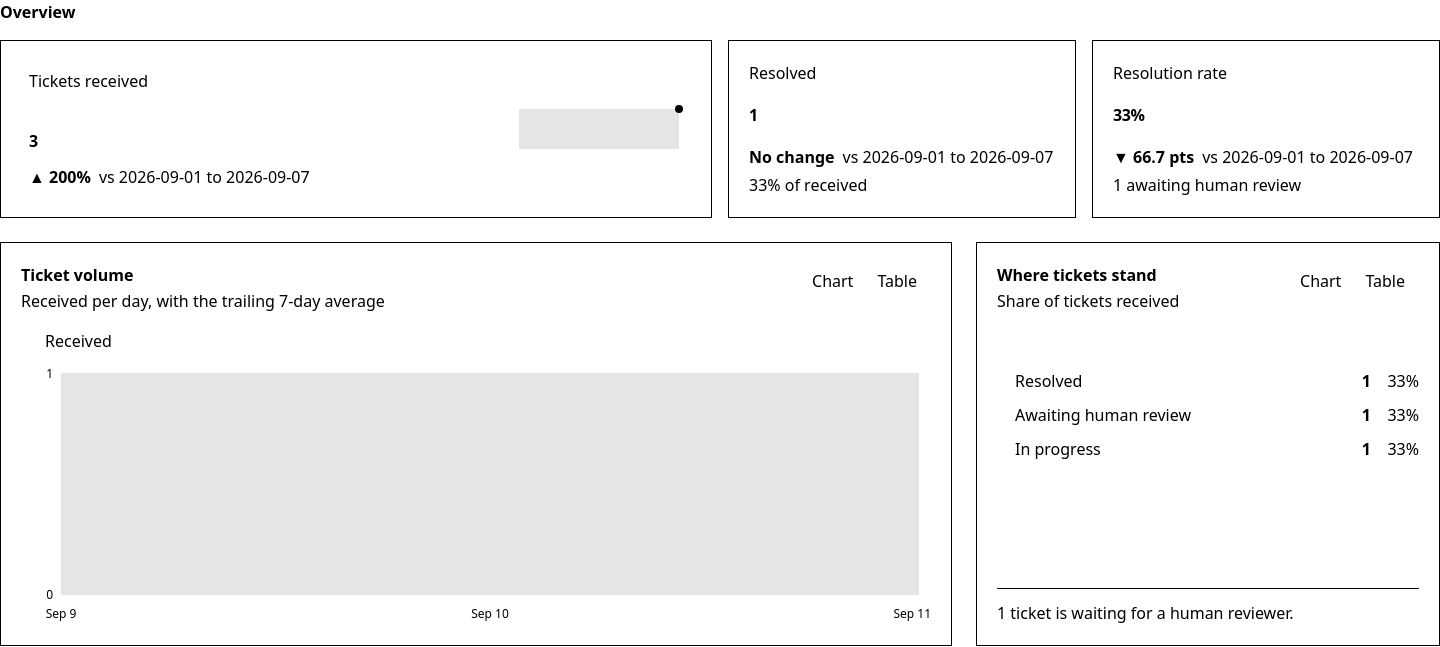
Scenario: ReportDashboard › every chart has a table twin that matches the numbers › volume: one row per day with the 7-day average column
The image size is (1440, 647).
Click the button "table" in the row of "Ticket volume".
click(897, 281)  # box [865,265,929,297]
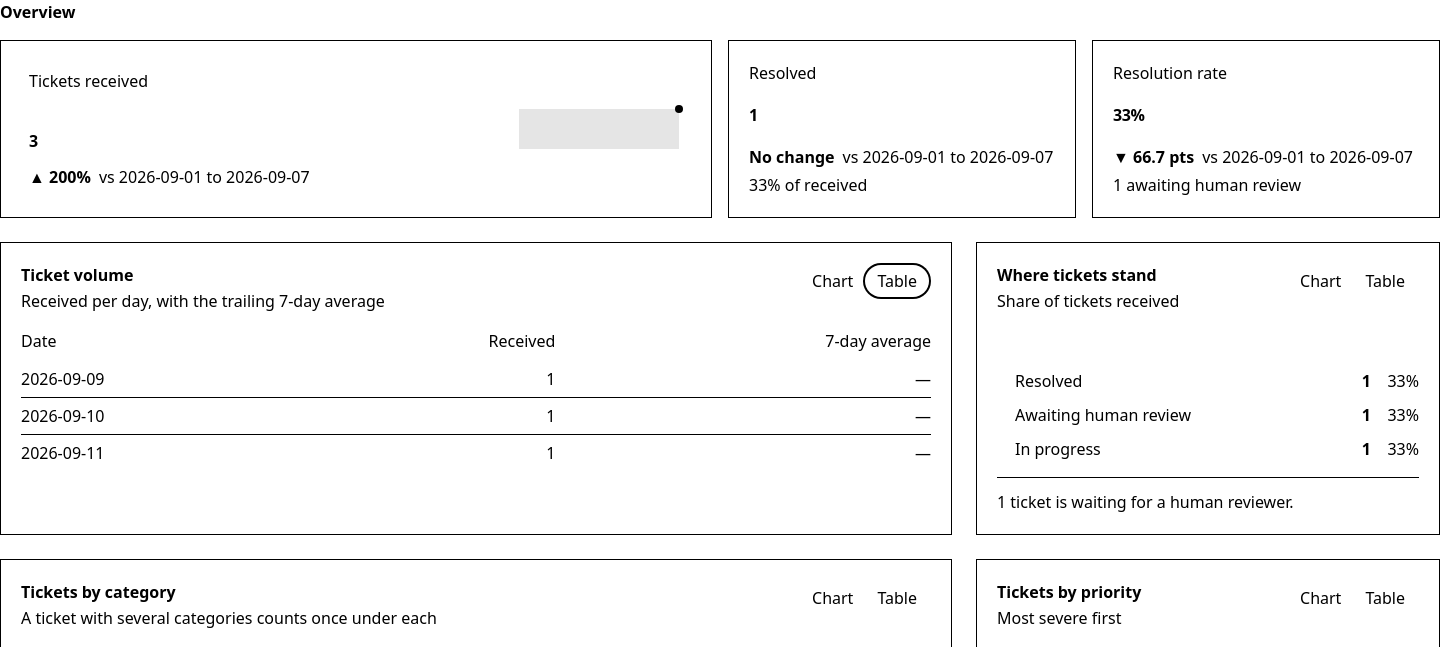
Now the column headings read "Date", "Received", "7-day average", in this order, box [21,329,318,361]; [318,329,555,361]; [555,329,931,361]
